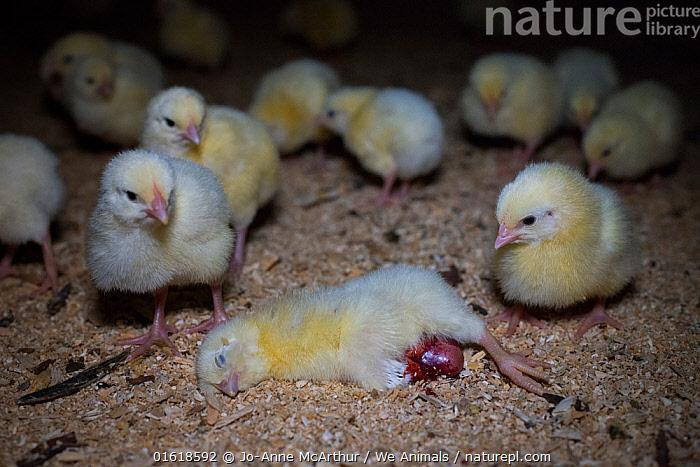AbNormal: (168, 247, 569, 407)
